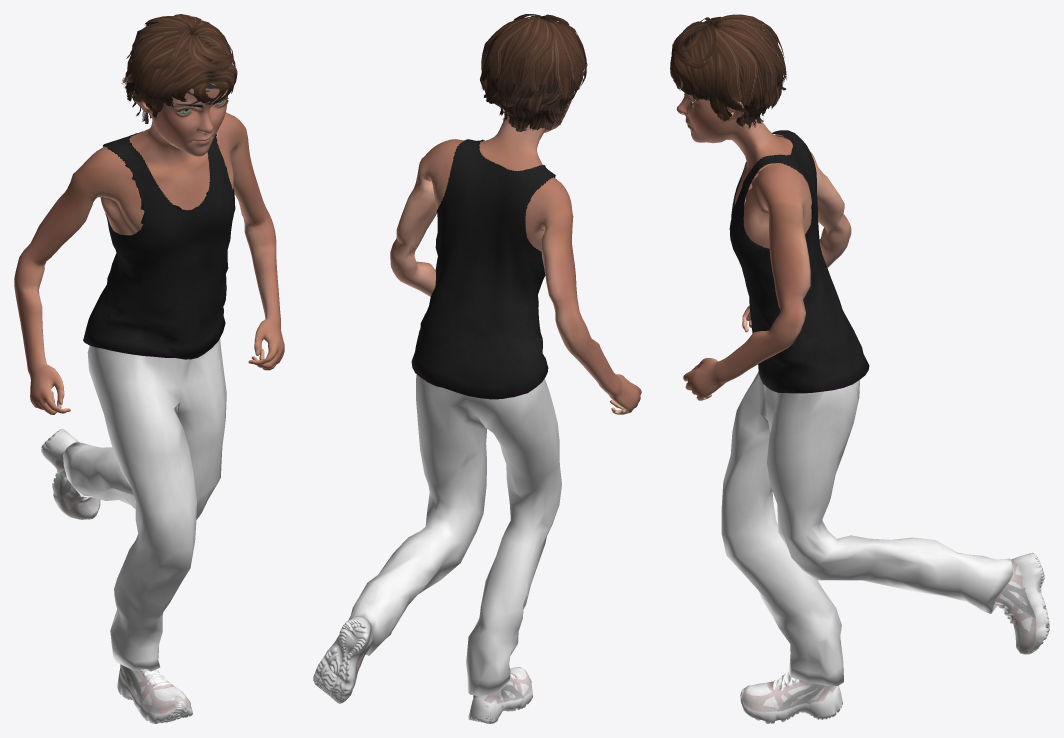
The model's file is Coach_Mec_Courir.obj.
3 views of the same model, side by side, from view 1: azimuth 30°, elevation 25°; view 2: azimuth 150°, elevation 25°; view 3: azimuth 270°, elevation 25° (orthographic). The views are drawn at different scales.
Visible parts, largest first — view 1: Bottoms_Bottomsmesh, Body_Bodymesh, Tops_Topsmesh, Hair_Hairmesh, Shoes_Shoesmesh; view 2: Bottoms_Bottomsmesh, Tops_Topsmesh, Body_Bodymesh, Hair_Hairmesh, Shoes_Shoesmesh; view 3: Bottoms_Bottomsmesh, Body_Bodymesh, Tops_Topsmesh, Hair_Hairmesh, Shoes_Shoesmesh.
Boxes of the visible parts, bbox=[...] form: Bottoms_Bottomsmesh: bbox=[63, 339, 226, 671]; Body_Bodymesh: bbox=[14, 73, 284, 414]; Tops_Topsmesh: bbox=[83, 131, 235, 359]; Hair_Hairmesh: bbox=[121, 14, 237, 123]; Shoes_Shoesmesh: bbox=[41, 429, 192, 723]; Bottoms_Bottomsmesh: bbox=[348, 374, 561, 696]; Tops_Topsmesh: bbox=[411, 139, 555, 399]; Body_Bodymesh: bbox=[390, 70, 641, 414]; Hair_Hairmesh: bbox=[480, 14, 587, 131]; Shoes_Shoesmesh: bbox=[313, 616, 532, 723]; Bottoms_Bottomsmesh: bbox=[721, 371, 1012, 685]; Body_Bodymesh: bbox=[676, 74, 851, 400]; Tops_Topsmesh: bbox=[729, 130, 869, 393]; Hair_Hairmesh: bbox=[670, 14, 786, 129]; Shoes_Shoesmesh: bbox=[740, 552, 1049, 723].
Size of the model in its own units: 0.5918 by 1.61 by 0.7992.
